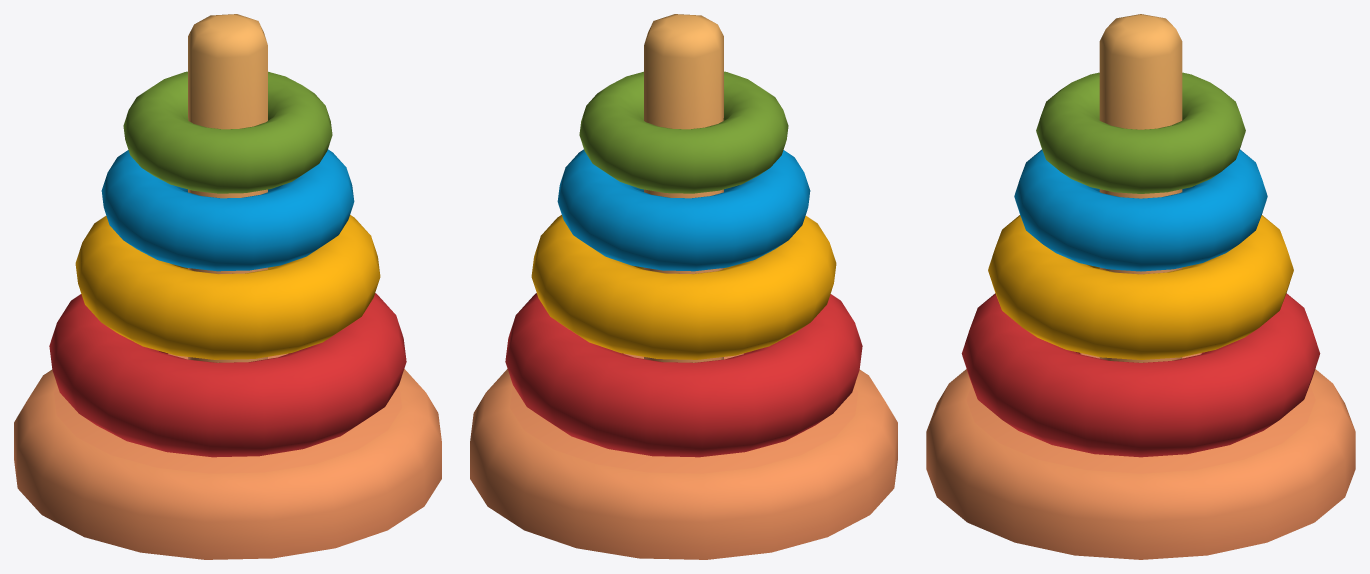
Rendered from Toy_04.glb.
3 renders of one model, left to right at view 1: azimuth 30°, elevation 25°; view 2: azimuth 150°, elevation 25°; view 3: azimuth 270°, elevation 25°, orthographic.
Parts seen in each view (by area): view 1: Toy_04; view 2: Toy_04; view 3: Toy_04.
Boxes of the visible parts, x1,y1,x2,y2 form: Toy_04: [14, 14, 441, 559]; Toy_04: [470, 14, 897, 559]; Toy_04: [926, 14, 1355, 559].
Size of the model in its own units: 0.2235 by 0.2561 by 0.2235.
Materials: 1 (1 with a texture image).
